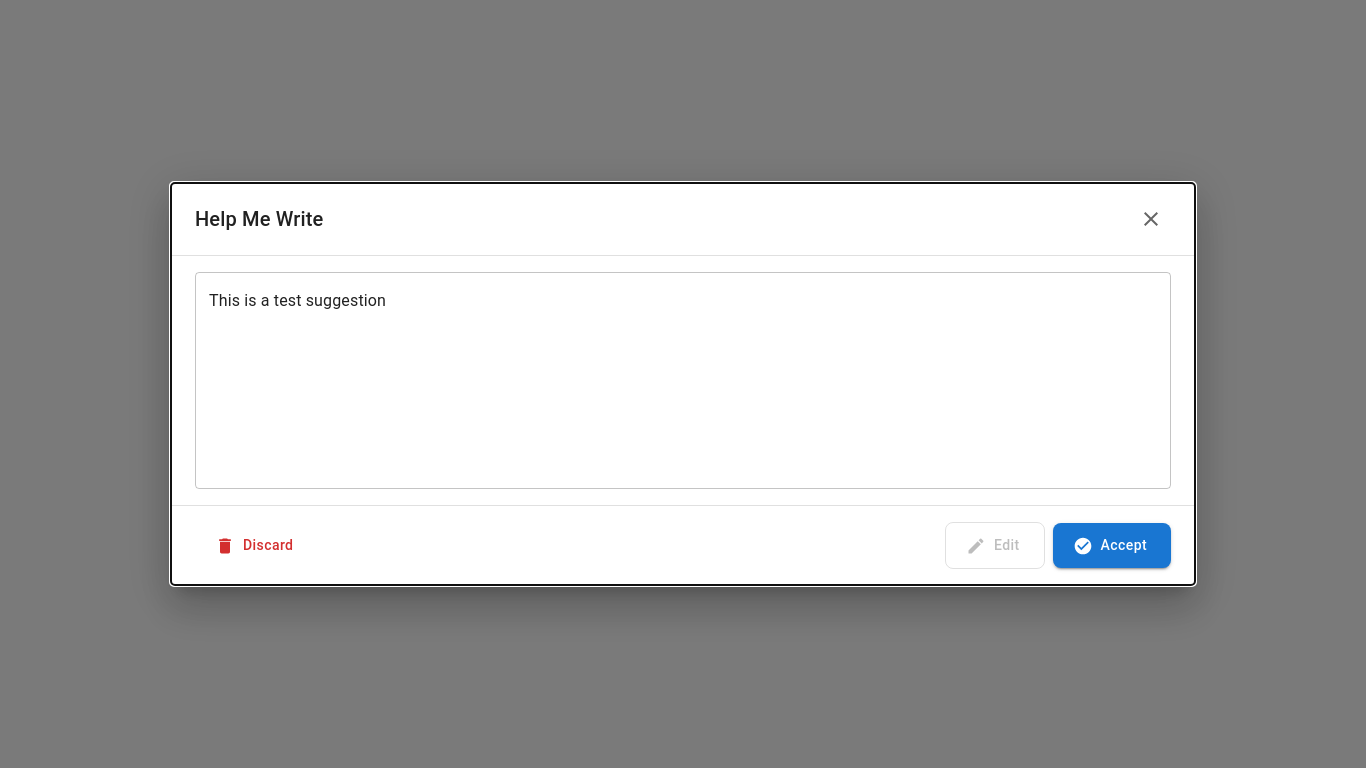
it: SuggestionModal › Button Actions › should enable Edit button when text is changed
This screenshot has width=1366, height=768.
Type " modified" into the text box at x=683, y=381, box [209,289,1157,473]
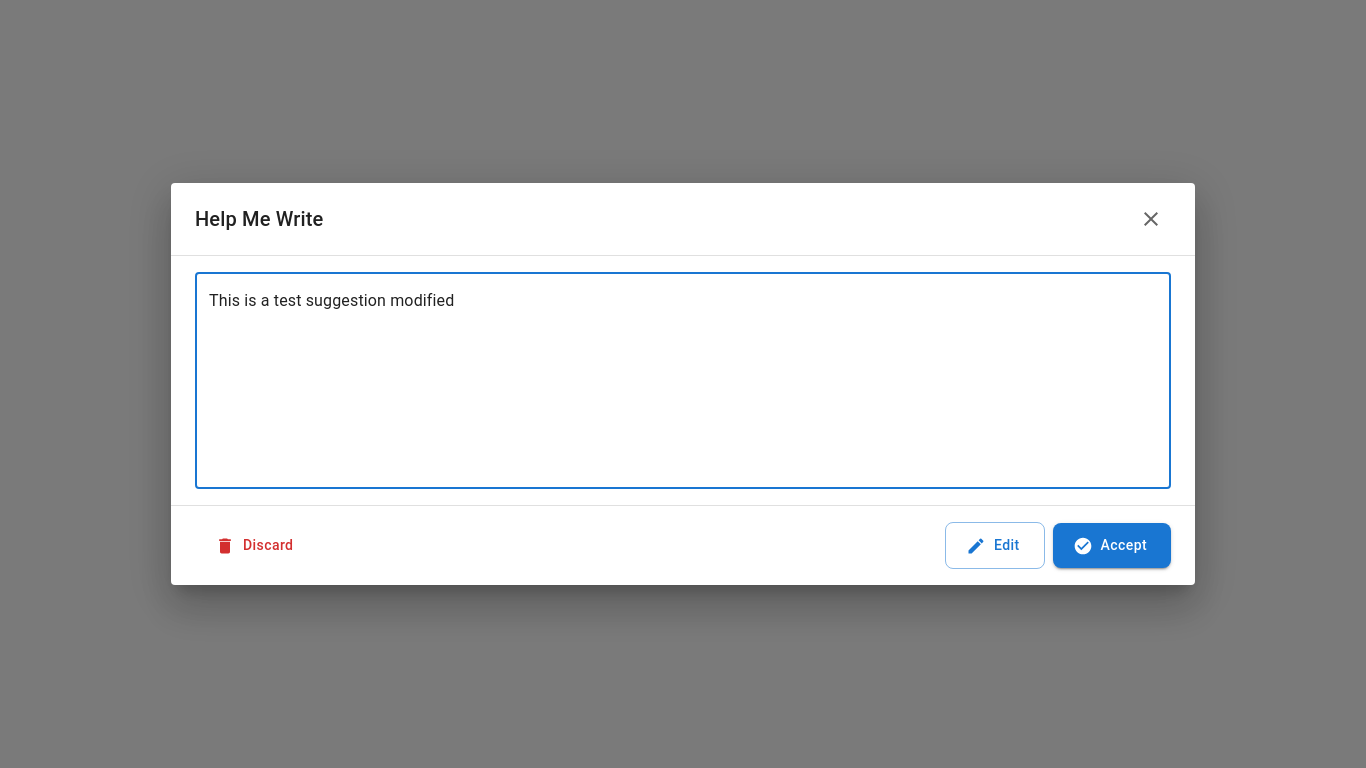
Check: the button "Edit" is enabled, box [945,522,1044,569]
